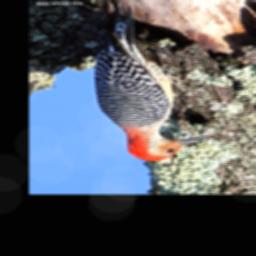Woodpecker: (92, 7, 209, 163)
